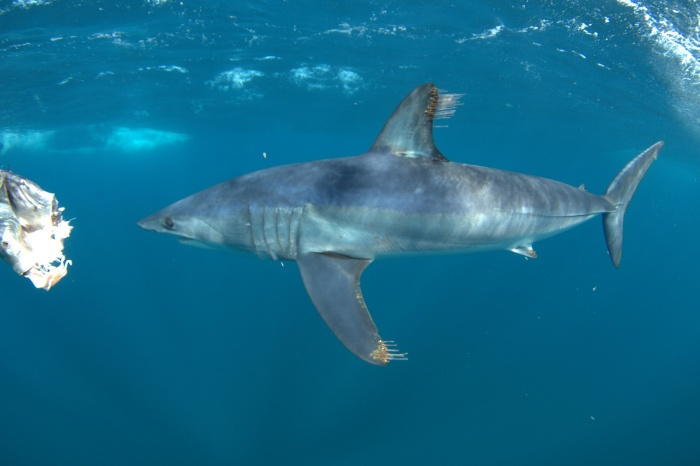Mako: (130, 78, 670, 375)
